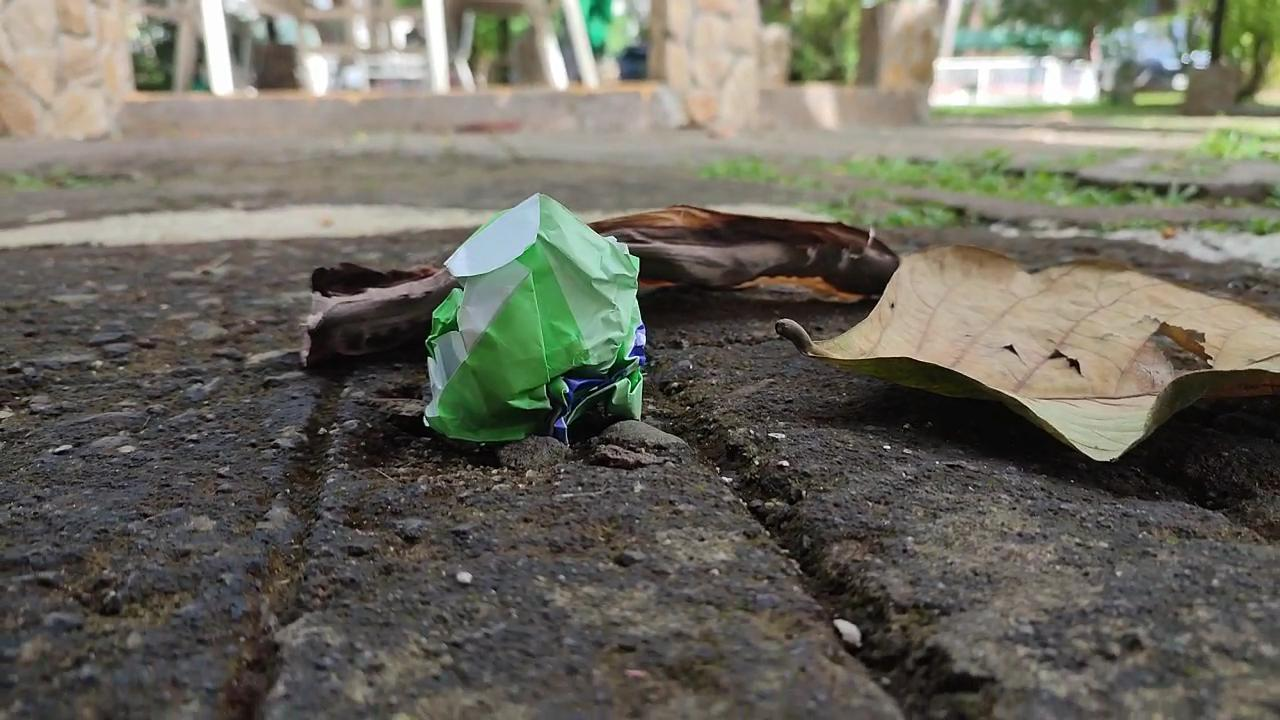Paper: (413, 191, 671, 460)
